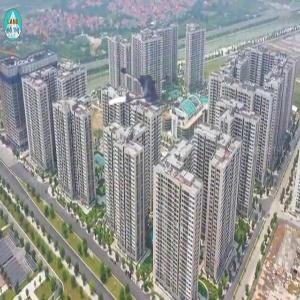drone: (98, 49, 184, 135)
